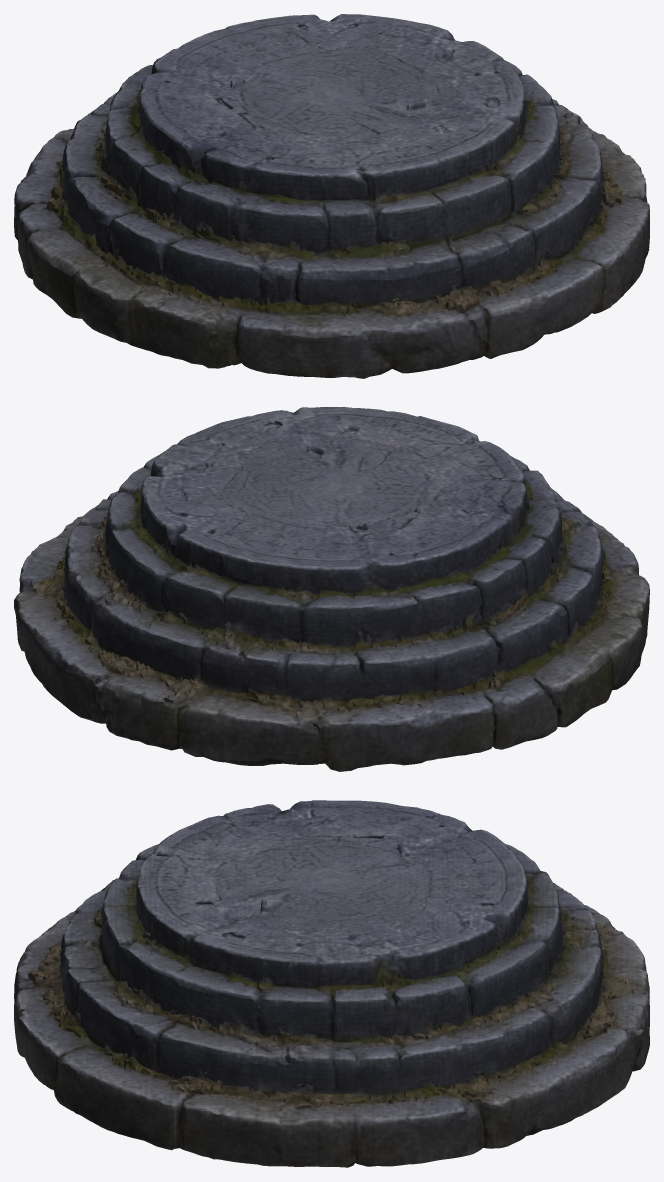
Rendered from tribulation.glb.
The picture shows the model from 3 angles, top to bottom: view 1: azimuth 30°, elevation 25°; view 2: azimuth 150°, elevation 25°; view 3: azimuth 270°, elevation 25°; orthographic projection.
Parts seen in each view (by area): view 1: world; view 2: world; view 3: world.
Boxes of the visible parts, <box> form: world: <box>14,14,649,378</box>; world: <box>14,407,649,771</box>; world: <box>14,800,649,1167</box>.
Size of the model in its own units: 2 by 0.5612 by 2.
Materials: 1 (1 with a texture image).
